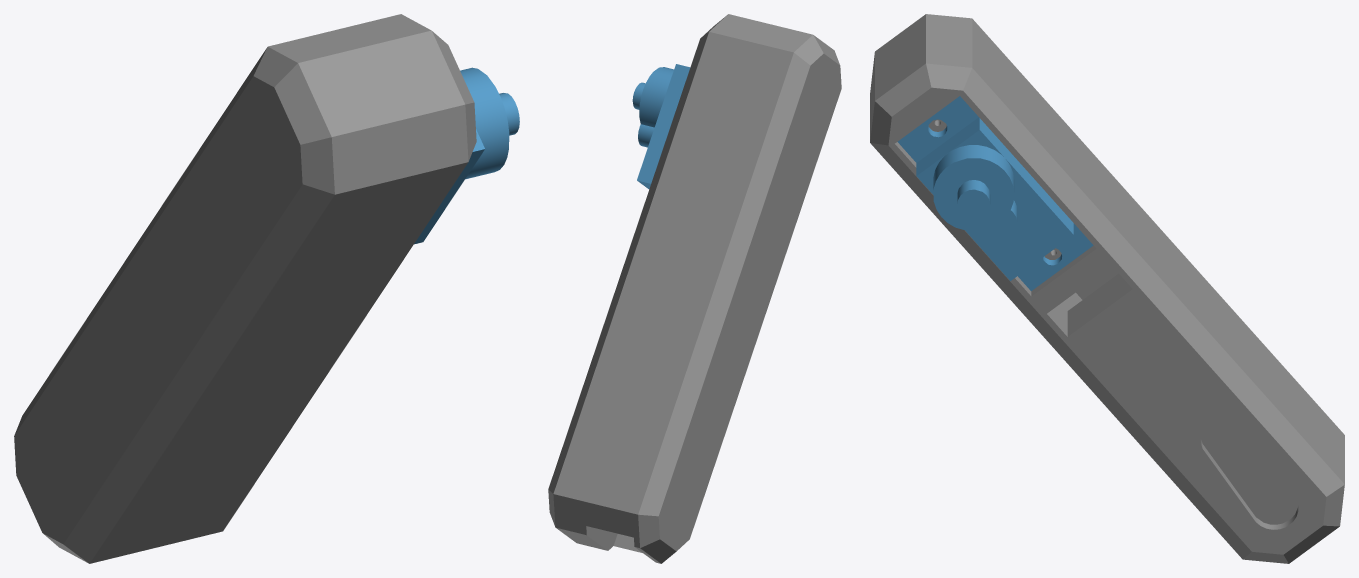
Rendered from upper_arm.glb.
3 views of the same model, side by side, from view 1: azimuth 30°, elevation 25°; view 2: azimuth 150°, elevation 25°; view 3: azimuth 270°, elevation 25° (orthographic). The views are drawn at different scales.
Visible parts, largest first — view 1: upper_arm; view 2: upper_arm; view 3: upper_arm.
Part boxes in pixels (x1,y1,x2,y2): upper_arm: [14, 14, 519, 563]; upper_arm: [548, 14, 841, 563]; upper_arm: [870, 14, 1344, 563].
Size of the model in its own units: 0.035 by 0.084 by 0.0722.
